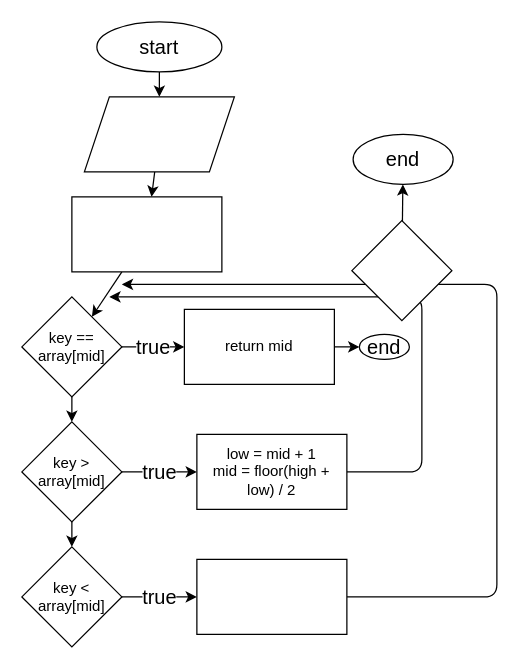
Some shapes in this 529 by 669 pixel diagram are drawn without their labels. The shapes that lost their labels are listed below. From the top down, each one's centre as x and y in pixels, then its label:
At pixel 158 134: "low, high, array".
At pixel 146 234: "mid = floor(high + low) / 2 key = (number you want to search)".
At pixel 401 270: "if low > high".
At pixel 271 596: "hight = mid - 1 mid = floor(high + low) / 2".
